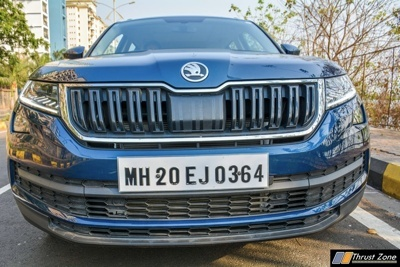plaka: (116, 155, 270, 190)
